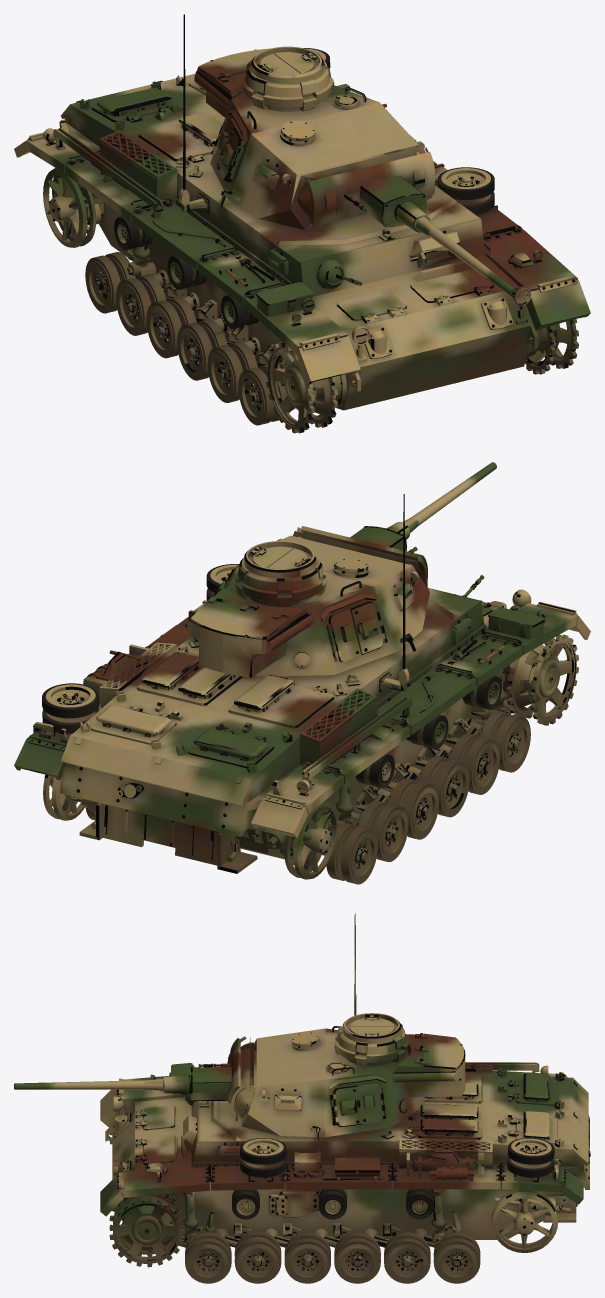
Rendered from PanzerIII.glb.
3 views of the same model, one above another, from view 1: azimuth 30°, elevation 25°; view 2: azimuth 150°, elevation 25°; view 3: azimuth 270°, elevation 25° (orthographic). The views are drawn at different scales.
Parts seen in each view (by area): view 1: Wanne, turret, cannon, radL7, radL0, radL3, radL2, radL4, radL5, radL1, radR7, radL6 (+3 smaller); view 2: Wanne, turret, radL7, cannon, radL0, radL1, radL6, radL4, radL3, radL5, radL2, radR0 (+3 smaller); view 3: Wanne, turret, radR7, cannon, radR0, radR5, radR4, radR3, radR2, radR6, radR1, rollR0 (+2 smaller).
Part boxes in pixels (<box>): Wanne: <box>14,15,590,410</box>; turret: <box>177,14,466,230</box>; cannon: <box>290,146,516,296</box>; radL7: <box>265,342,342,433</box>; radL0: <box>43,168,103,247</box>; radL3: <box>146,294,212,358</box>; radL2: <box>116,271,182,335</box>; radL4: <box>177,316,243,380</box>; radL5: <box>207,338,267,402</box>; radL1: <box>85,249,151,313</box>; radR7: <box>525,319,578,374</box>; radL6: <box>238,361,286,425</box>; Wanne: <box>14,494,590,873</box>; turret: <box>174,494,429,707</box>; radL7: <box>503,634,578,725</box>; cannon: <box>293,462,496,589</box>; radL0: <box>264,800,337,879</box>; radL1: <box>322,818,377,884</box>; radL6: <box>467,705,530,772</box>; radL4: <box>406,745,469,817</box>; radL3: <box>375,769,439,839</box>; radL5: <box>439,722,500,794</box>; radL2: <box>351,789,408,861</box>; radR0: <box>43,774,87,820</box>; Wanne: <box>100,913,590,1246</box>; turret: <box>228,913,467,1148</box>; radR7: <box>109,1194,187,1267</box>; cannon: <box>14,1037,253,1121</box>; radR0: <box>491,1190,558,1252</box>; radR5: <box>225,1227,285,1283</box>; radR4: <box>275,1227,330,1283</box>; radR3: <box>324,1227,384,1283</box>; radR2: <box>374,1227,434,1283</box>; radR6: <box>178,1225,235,1283</box>; radR1: <box>424,1224,480,1283</box>; rollR0: <box>406,1189,438,1219</box>.
Size of the model in its own units: 2.95 by 3.36 by 6.4.
Materials: 1 (1 with a texture image).
